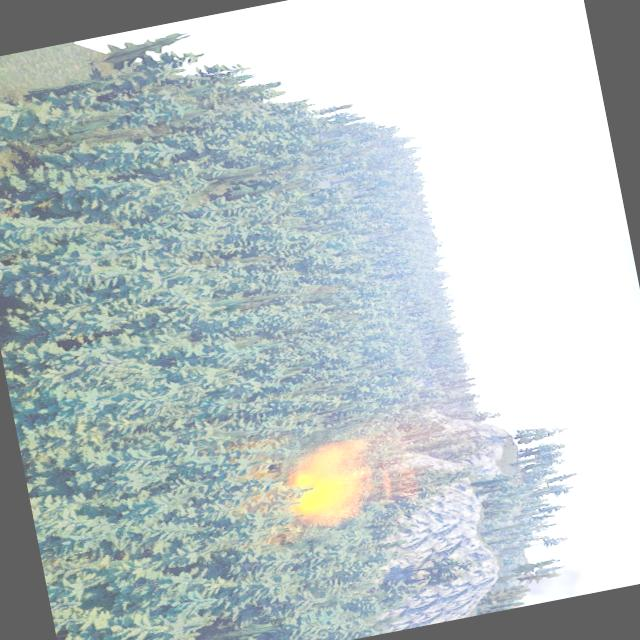fire: (276, 442, 378, 528)
smoke: (334, 398, 515, 506), (511, 562, 588, 608)
